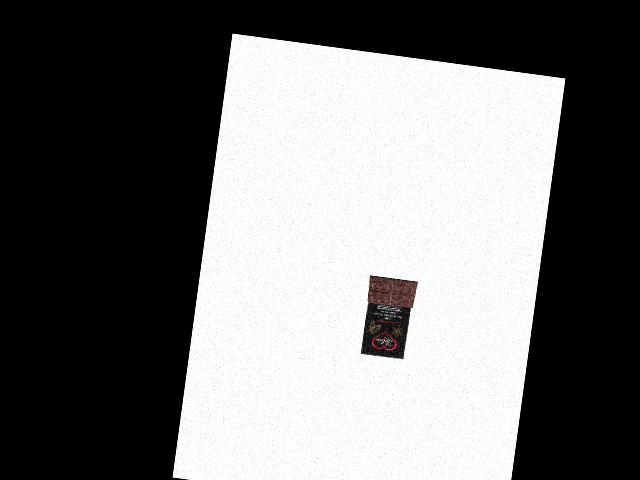chocolate: (357, 271, 421, 361)
